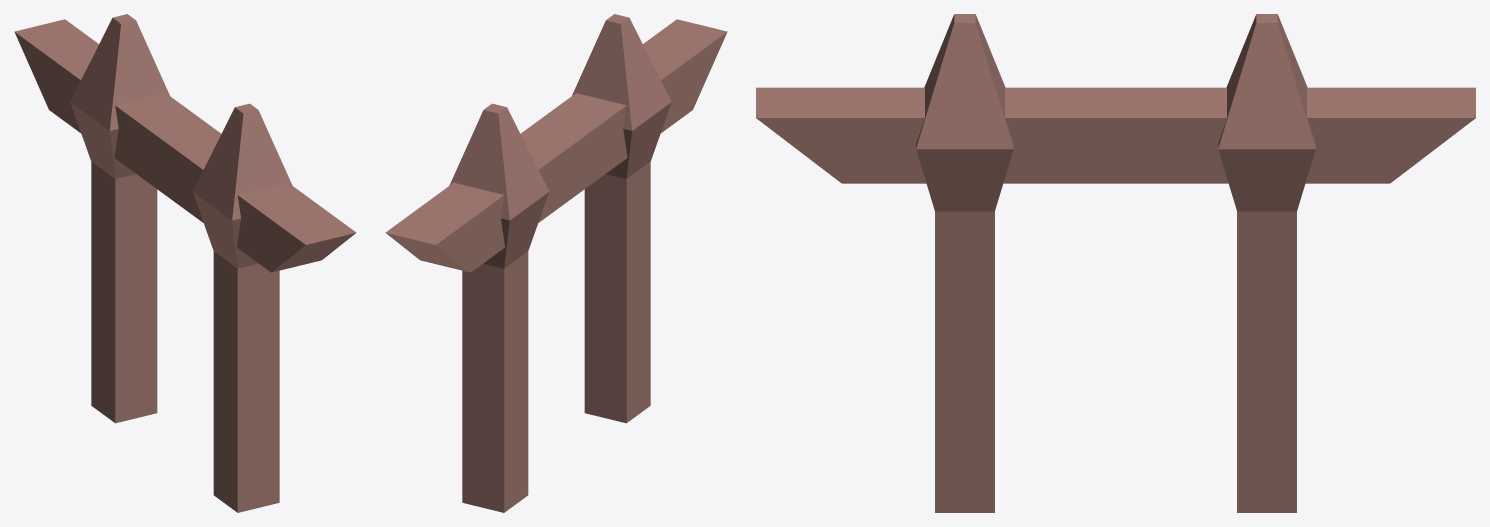
File: Gate.fbx
3 views of the same model, side by side, from view 1: azimuth 30°, elevation 25°; view 2: azimuth 150°, elevation 25°; view 3: azimuth 270°, elevation 25° (orthographic). The views are drawn at different scales.
Visible parts, largest first — view 1: Gate; view 2: Gate; view 3: Gate.
Part boxes in pixels (x1,y1,x2,y2): Gate: (14, 14, 356, 512); Gate: (385, 14, 727, 512); Gate: (756, 14, 1475, 512).
Bounding box in the file's own units: 1344 × 7309 × 9896.
